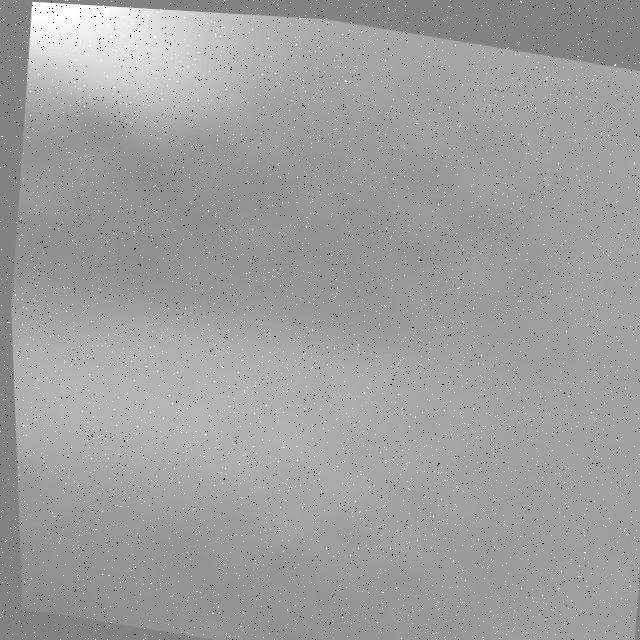person: (22, 2, 282, 146)
